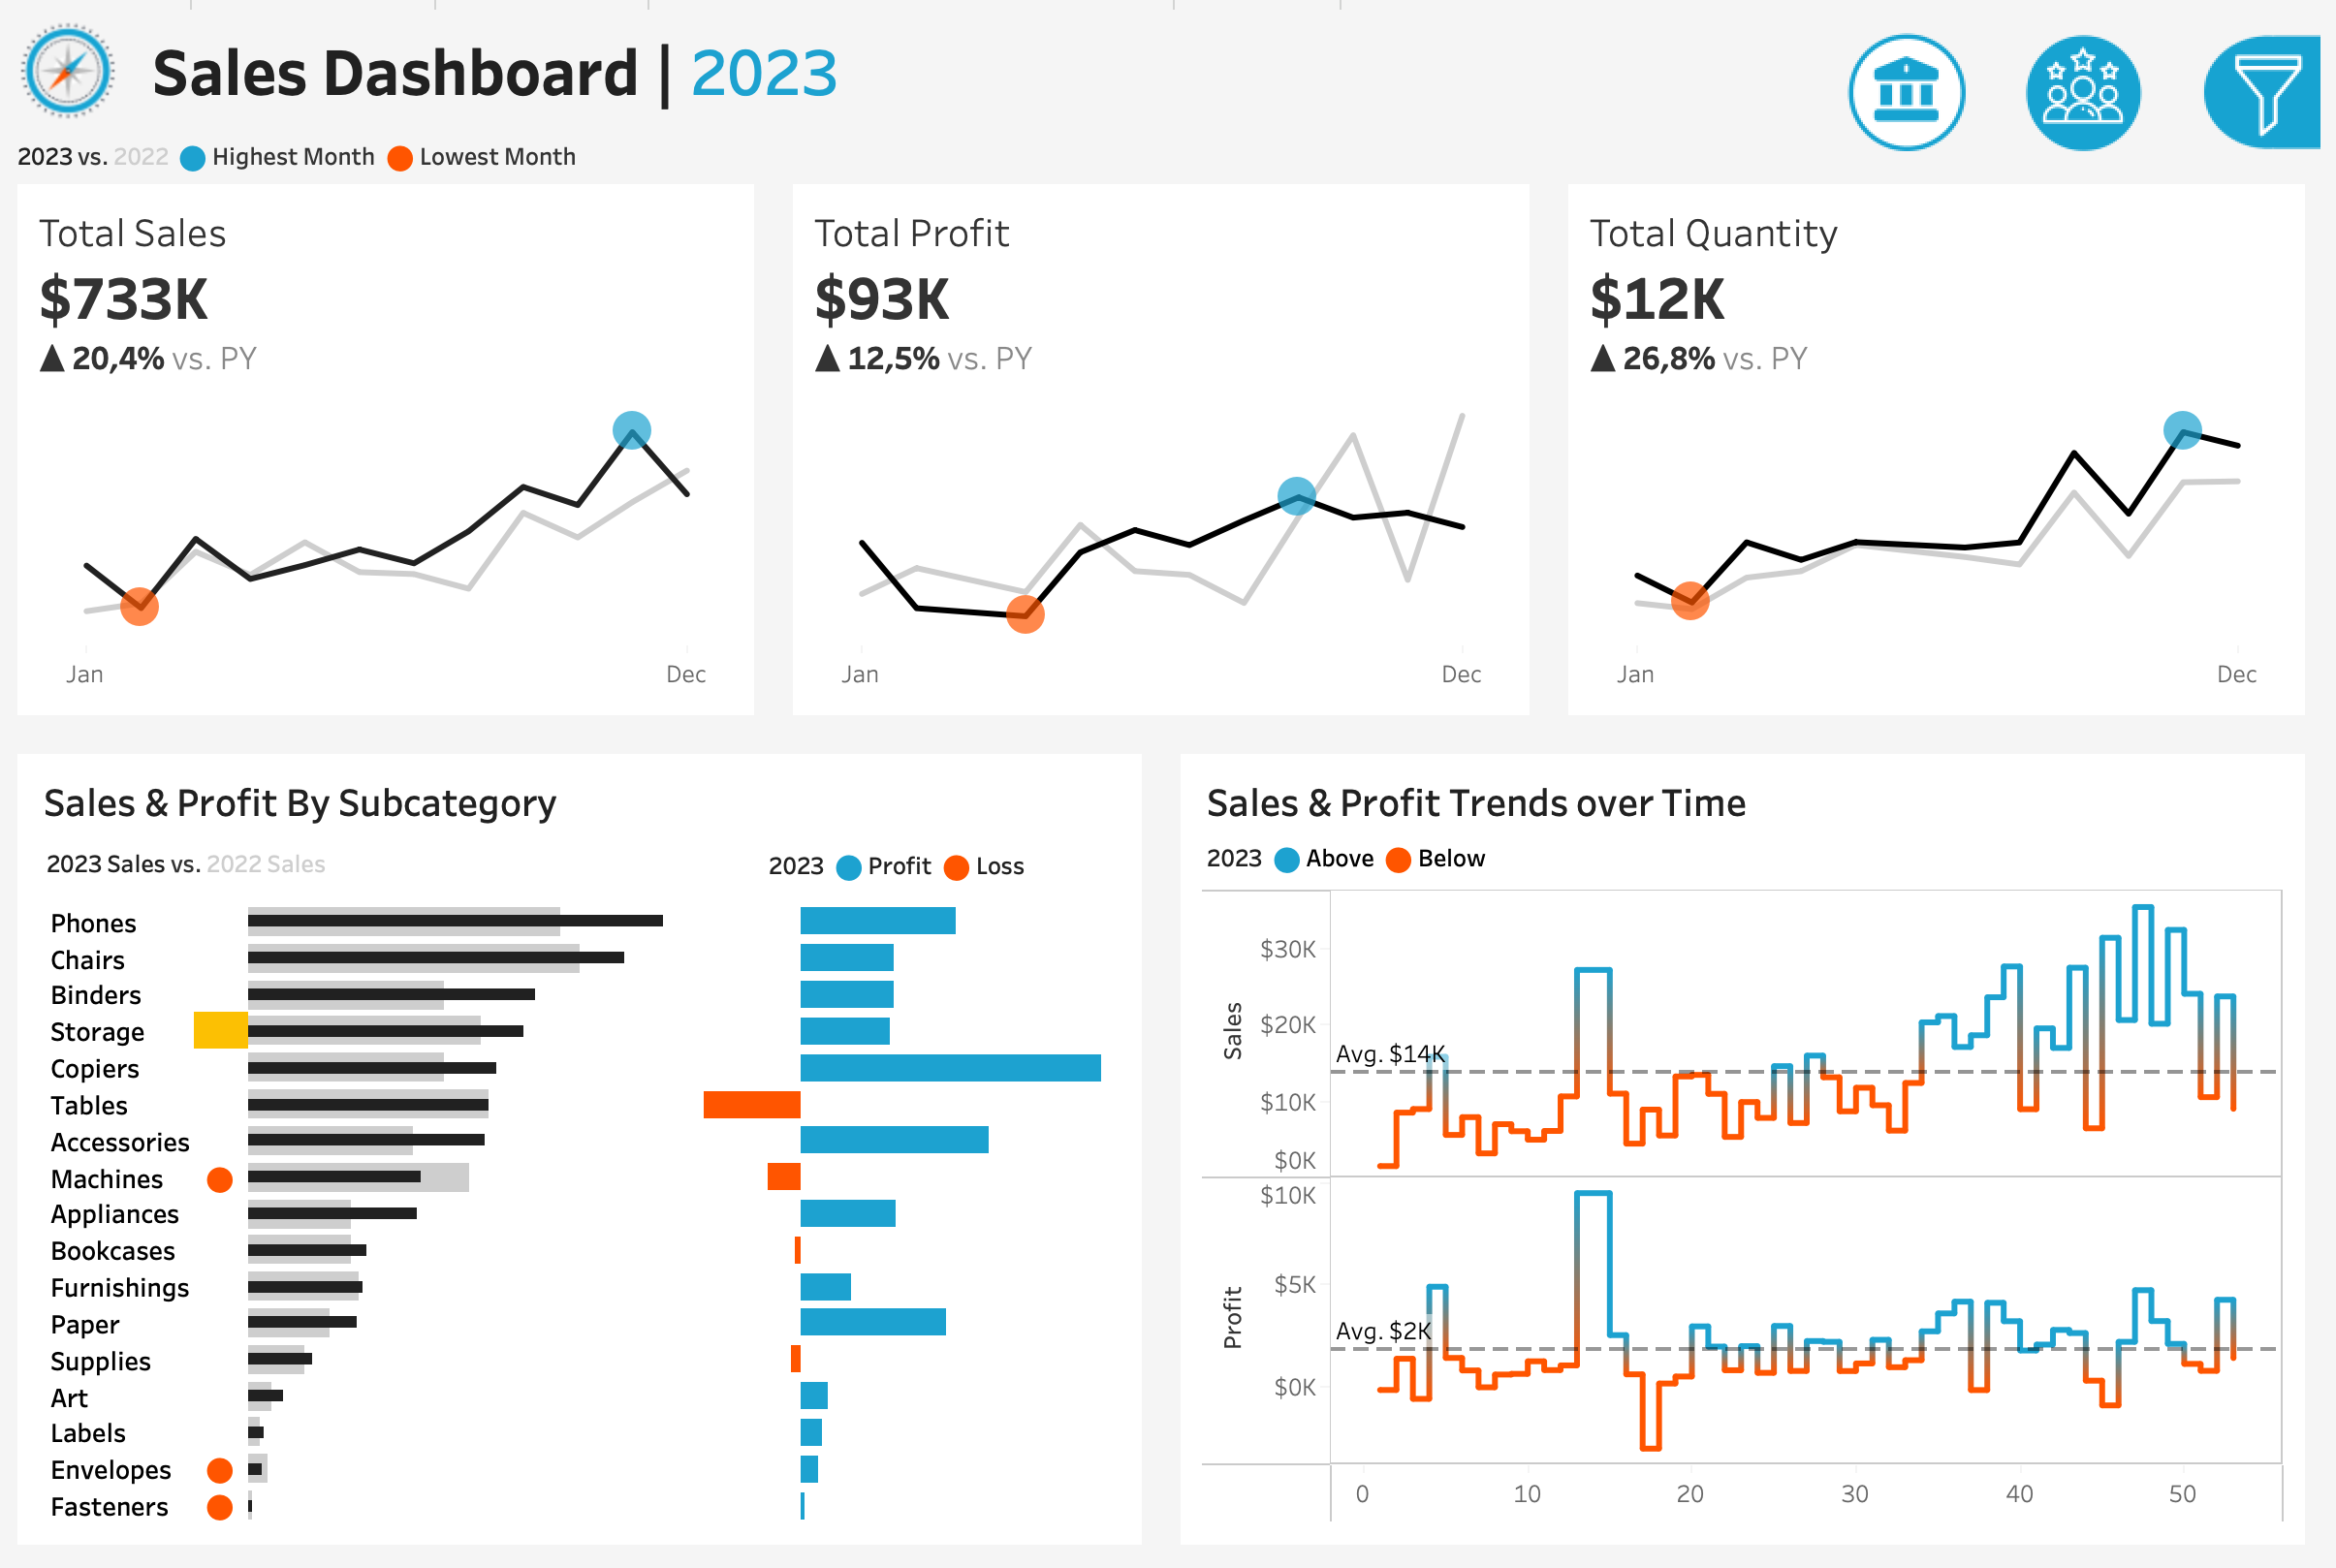

What the dashboard file says about the page in this screenshot:
{"tool":"tableau","page":{"name":"Sales Dashboard","canvas":[1200,800],"ordinal":1},"visuals":[{"type":"image","param":"Image/Icon - Logo.png","box":[0,0,73,59]},{"type":"text","box":[73,0,820,59]},{"type":"dashboard-object","box":[940,6,91,70]},{"type":"dashboard-object","box":[1031,6,91,70]},{"type":"blank","box":[952,10,237,86]},{"type":"worksheet","title":"Legend KPI","mark":"Automatic","box":[0,59,1200,29]},{"type":"worksheet","title":"KPI Sales","mark":"Automatic","rows":["Calculation_721701895347843083"],"cols":["Order Date"],"box":[0,88,400,284]},{"type":"worksheet","title":"KPI Profit","mark":"Automatic","rows":["Min/Max Sales (copy)_237846410425847814"],"cols":["Order Date"],"box":[400,88,400,284]},{"type":"worksheet","title":"KPI Quantity","mark":"Automatic","rows":["Min/Max Sales (copy) (copy)_237846410425856007"],"cols":["Order Date"],"box":[800,88,400,284]},{"type":"text","box":[952,96,237,37]},{"type":"parameter","param":"[Parameters].[Parameter 1]","box":[952,133,237,55]},{"type":"text","box":[952,188,237,32]},{"type":"filter","title":"KPI Sales","param":"[federated.1kpxa041aiai2y1cl4pui1t4eju9].[none:Category:nk]","box":[952,220,237,57]},{"type":"filter","title":"KPI Sales","param":"[federated.1kpxa041aiai2y1cl4pui1t4eju9].[none:Sub-Category:nk]","box":[952,277,237,57]},{"type":"blank","box":[952,334,237,60]},{"type":"text","box":[17,389,566,34]},{"type":"text","box":[617,389,566,34]},{"type":"text","box":[952,394,237,32]},{"type":"worksheet","title":"Legend Subcategory","mark":"Automatic","box":[17,423,374,32]},{"type":"text","box":[391,423,192,32]},{"type":"text","box":[617,423,566,25]},{"type":"filter","title":"KPI Sales","param":"[federated.1kpxa041aiai2y1cl4pui1t4eju9].[none:Region:nk]","box":[952,426,237,57]},{"type":"worksheet","title":"Weekly Trends","mark":"Automatic","rows":["Calculation_721701895334993921","CY Sales (copy)_237846410424180736"],"cols":["Order Date"],"box":[617,448,566,335]},{"type":"worksheet","title":"Subcategory Comparison","mark":"Bar","rows":["Sub-Category","Calculation_2435040078806671369"],"cols":["CY Sales (copy)_721701895335804930","Calculation_721701895334993921","CY Sales (copy)_237846410424180736"],"box":[17,455,566,327.9]},{"type":"filter","title":"KPI Sales","param":"[federated.1kpxa041aiai2y1cl4pui1t4eju9].[none:State:nk]","box":[952,483,237,57]},{"type":"filter","title":"KPI Sales","param":"[federated.1kpxa041aiai2y1cl4pui1t4eju9].[none:City:nk]","box":[952,540,237,57]}]}

Visuals, with their boxes in screenshot pixels (x1, y1, x2, y2), scaled from the page's 1200x800 canvas onto the 2336x1568 screenshot:
image: l=0, t=0, r=142, b=115
text: l=142, t=0, r=1738, b=115
dashboard-object: l=1830, t=12, r=2007, b=149
dashboard-object: l=2007, t=12, r=2184, b=149
blank: l=1853, t=19, r=2315, b=188
"Legend KPI" worksheet: l=0, t=115, r=2335, b=172
"KPI Sales" worksheet: l=0, t=172, r=778, b=729
"KPI Profit" worksheet: l=778, t=172, r=1558, b=729
"KPI Quantity" worksheet: l=1558, t=172, r=2335, b=729
text: l=1853, t=188, r=2315, b=261
parameter: l=1853, t=261, r=2315, b=368
text: l=1853, t=368, r=2315, b=431
"KPI Sales" filter: l=1853, t=431, r=2315, b=543
"KPI Sales" filter: l=1853, t=543, r=2315, b=655
blank: l=1853, t=655, r=2315, b=772
text: l=33, t=763, r=1135, b=830
text: l=1201, t=763, r=2303, b=830
text: l=1853, t=772, r=2315, b=835
"Legend Subcategory" worksheet: l=33, t=830, r=761, b=892
text: l=761, t=830, r=1135, b=892
text: l=1201, t=830, r=2303, b=878
"KPI Sales" filter: l=1853, t=835, r=2315, b=947
"Weekly Trends" worksheet: l=1201, t=878, r=2303, b=1535
"Subcategory Comparison" worksheet (Bar marks): l=33, t=892, r=1135, b=1534
"KPI Sales" filter: l=1853, t=947, r=2315, b=1058
"KPI Sales" filter: l=1853, t=1058, r=2315, b=1170
